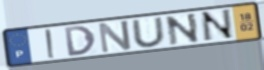D: (63, 24, 98, 58)
I: (43, 28, 58, 60)
N: (163, 11, 202, 47), (97, 18, 134, 55), (199, 8, 237, 44)
U: (129, 15, 168, 49)
